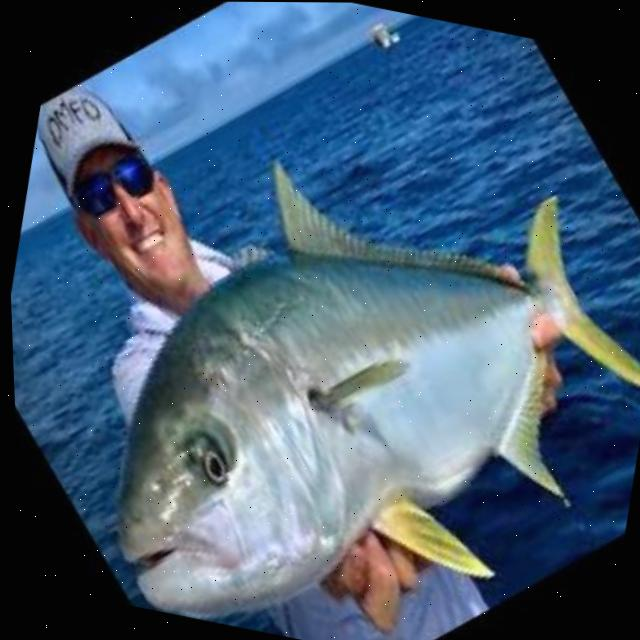Kingfish: (77, 113, 640, 640)
